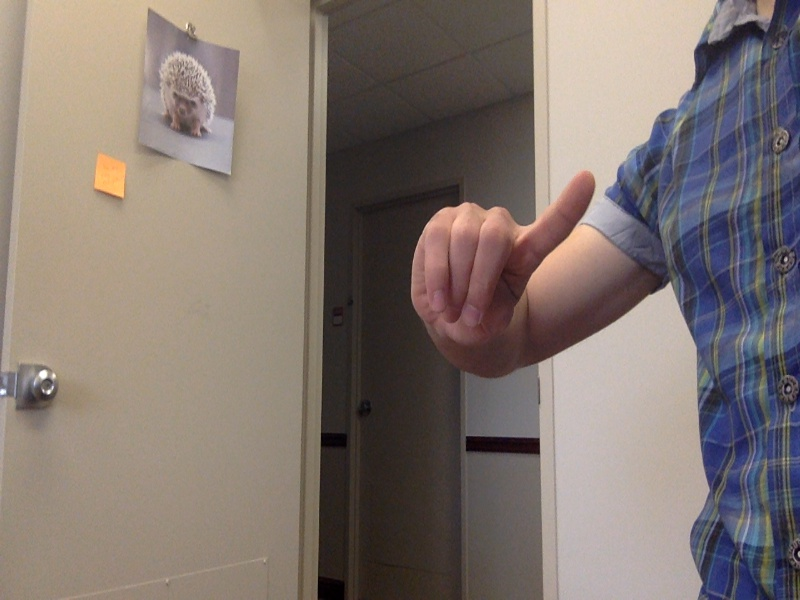1-hand: (413, 170, 596, 355)
